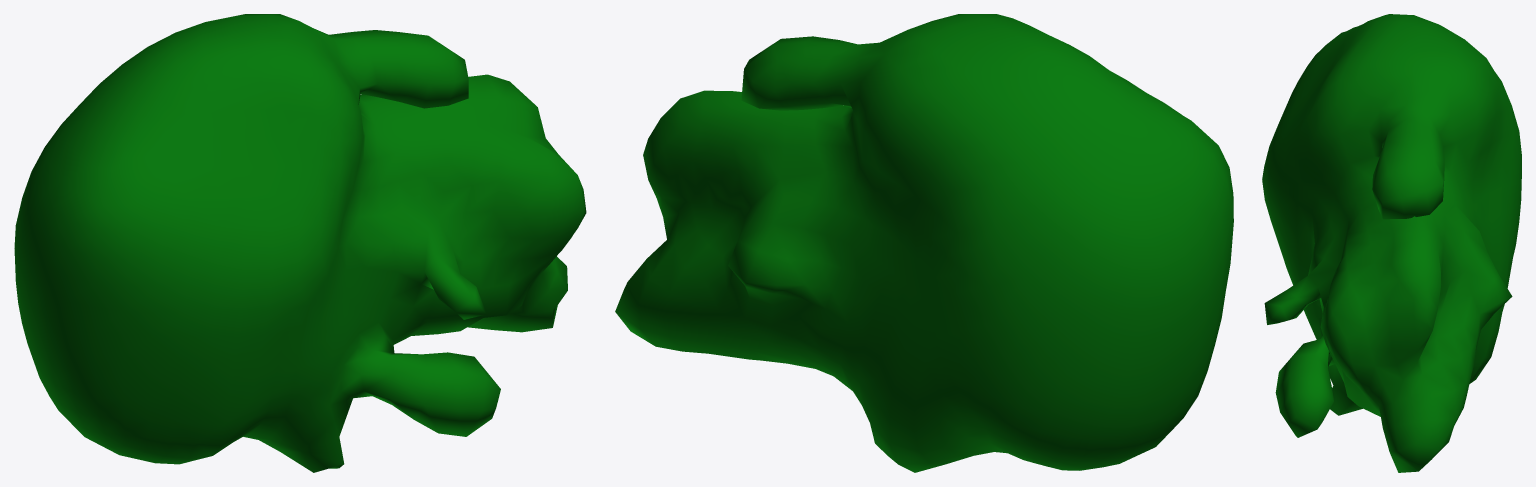
The model's file is Spit3.fbx.
3 renders of one model, left to right at view 1: azimuth 30°, elevation 25°; view 2: azimuth 150°, elevation 25°; view 3: azimuth 270°, elevation 25°, orthographic. The views are drawn at different scales.
Parts seen in each view (by area): view 1: Sphere; view 2: Sphere; view 3: Sphere.
Part boxes in pixels (x1,y1,x2,y2): Sphere: (14, 14, 586, 472); Sphere: (615, 14, 1233, 472); Sphere: (1262, 14, 1521, 472).
Bounding box in the file's own units: 393 × 293 × 193.
